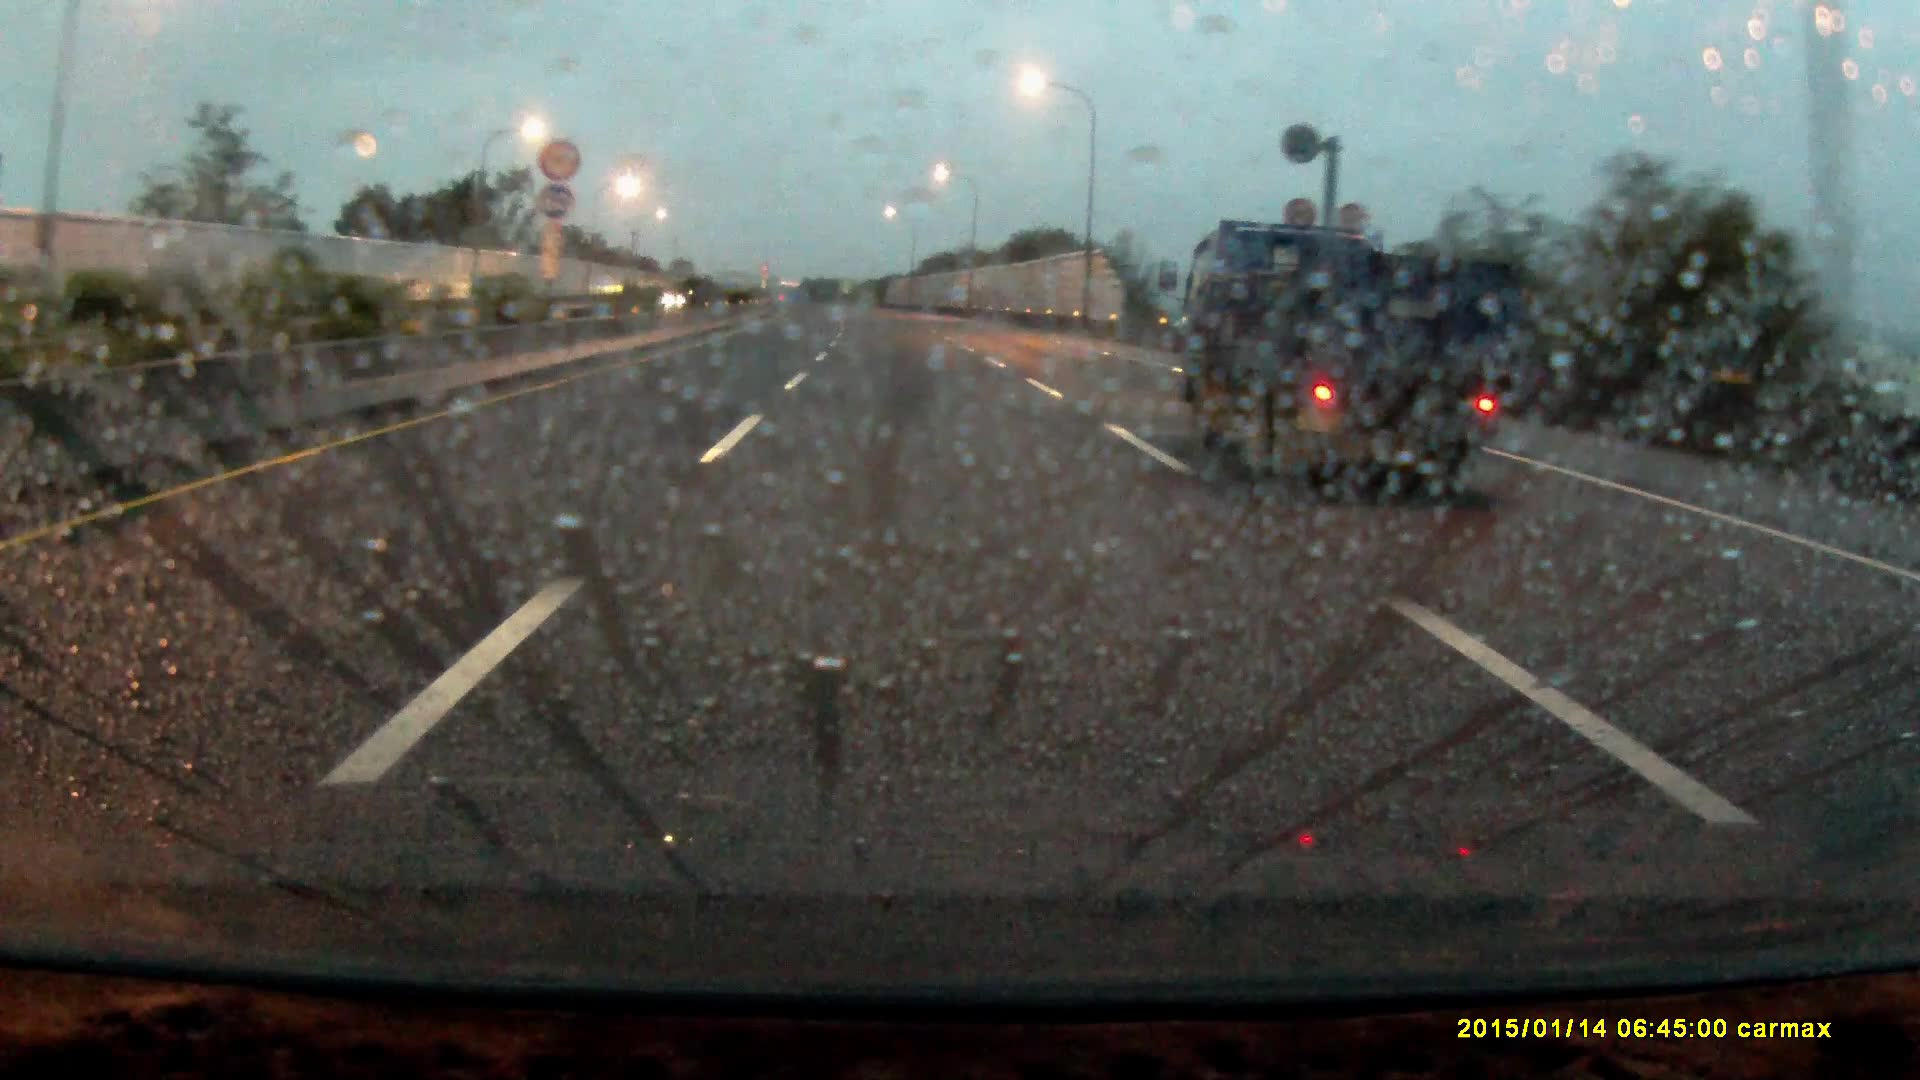vehicle: (1203, 204, 1532, 520)
